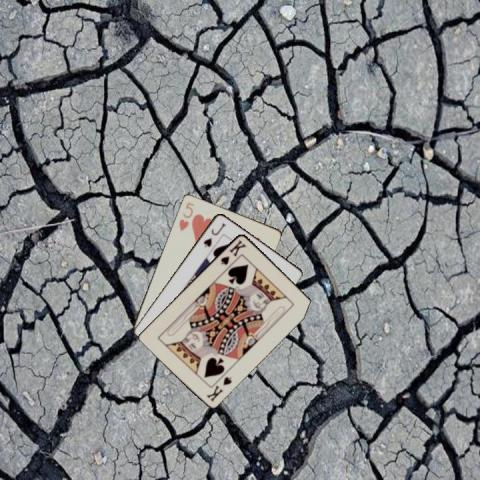5h: (176, 199, 195, 232)
Js: (201, 219, 227, 249)
Ks: (218, 237, 248, 266), (204, 373, 233, 403)
